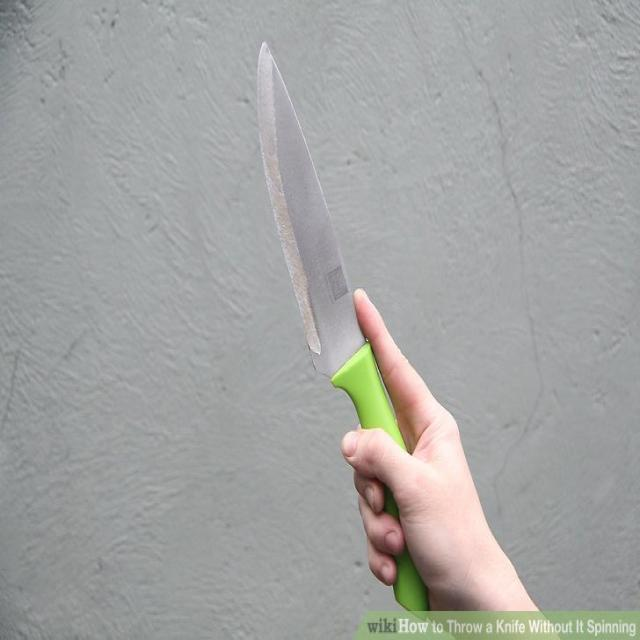knife: (254, 37, 435, 617)
